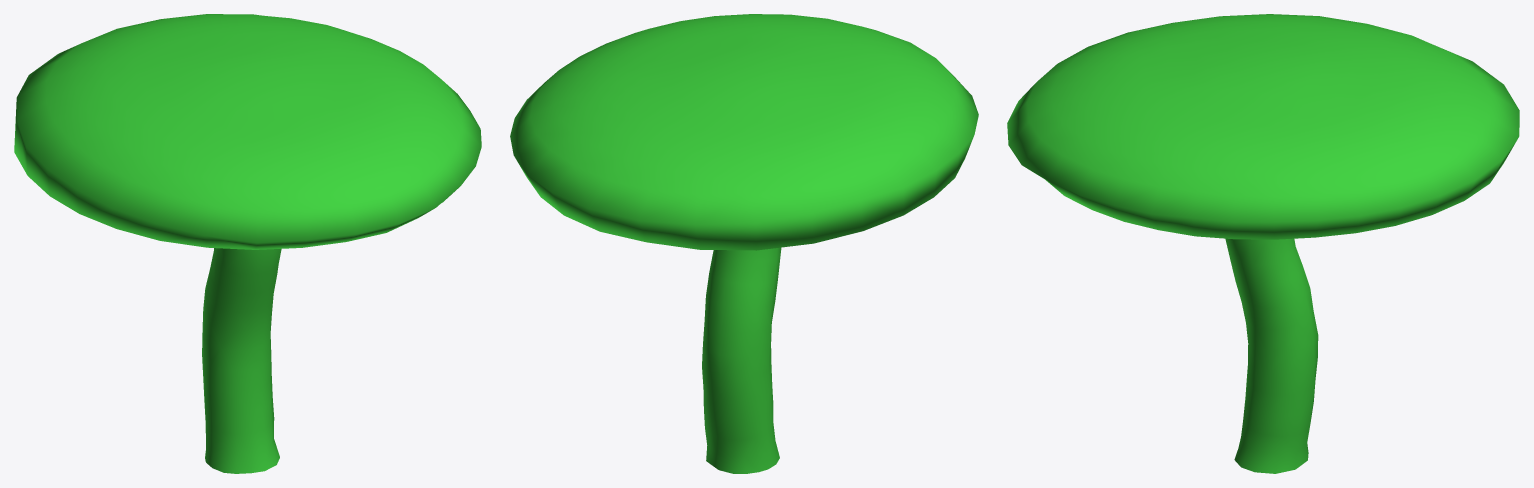
The model's file is seta_Low.fbx.
3 renders of one model, left to right at view 1: azimuth 30°, elevation 25°; view 2: azimuth 150°, elevation 25°; view 3: azimuth 270°, elevation 25°, orthographic.
Visible parts, largest first — view 1: seta_Low; view 2: seta_Low; view 3: seta_Low.
Boxes of the visible parts, x1,y1,x2,y2 form: seta_Low: (14, 14, 481, 473); seta_Low: (510, 14, 978, 473); seta_Low: (1007, 14, 1519, 473).
Bounding box in the file's own units: 60.13 × 56.59 × 67.32.
